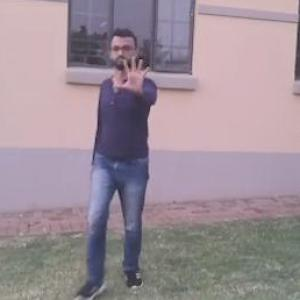follow_hand: (109, 46, 157, 98)
